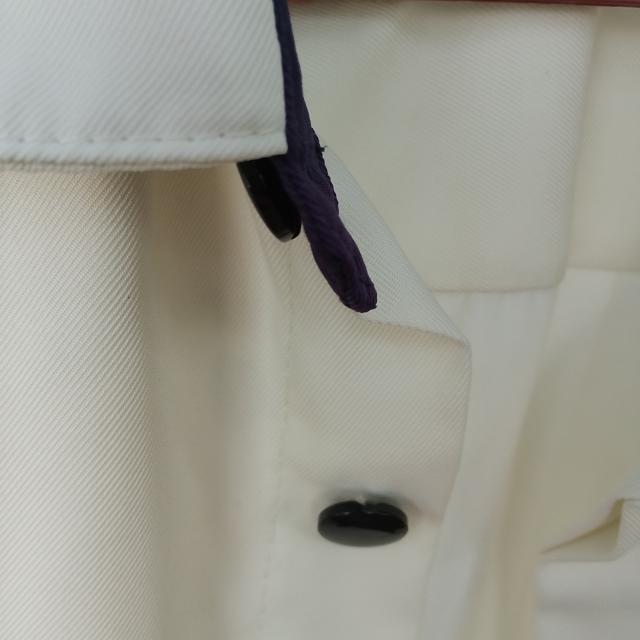education_male_uniform: (4, 3, 612, 635)
